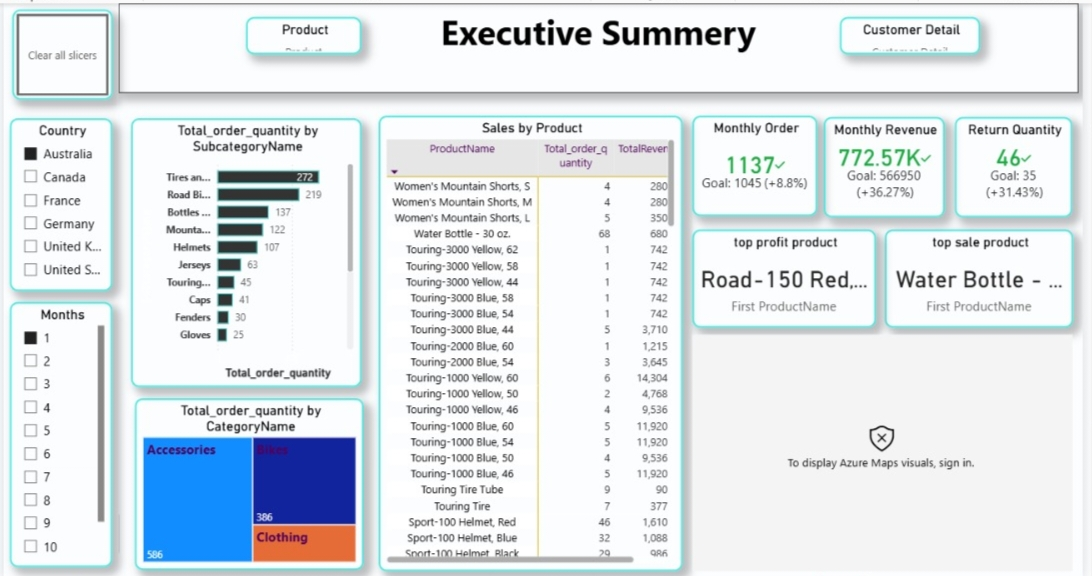

The page's visual inventory and layout, read from the dashboard file:
{"tool":"powerbi","page":{"name":" Executive Summery","canvas":[1350,720],"ordinal":0},"visuals":[{"type":"barChart","fields":{"Category":["Product_Subcategories_Dim.SubcategoryName"],"Y":["Dax-measure (2).Total_sales_quantity"]},"box":[160,144,288,336],"z":0},{"type":"treemap","fields":{"Group":["Product_Categories_Dim.CategoryName"],"Values":["Dax-measure (2).Total_sales_quantity"]},"box":[163.8,494.7,286.3,214.7],"z":1000},{"type":"pivotTable","title":"Sales  by Product","fields":{"Rows":["Products_Dim.ProductName"],"Values":["Dax_measure.Total_order_quantity","Dax_measure.TotalRevenue"]},"box":[469.2,140,380.2,569.4],"z":2000},{"type":"kpi","title":"Monthly Order","fields":{"Goal":["Dax_measure.Privious month order"],"Indicator":["Dax_measure.Total_sales_quantity"],"TrendLine":["Calendar_Dim.Monthno"]},"box":[860.5,140,155.9,125.7],"z":3000},{"type":"card","title":"top sale product","fields":{"Values":["Min(Products_Dim.ProductName)"]},"box":[1102.3,283.1,235.4,122.5],"z":4000},{"type":"card","title":"top profit product","fields":{"Values":["Min(Products_Dim.ProductName)"]},"box":[860.5,283.1,229,122.5],"z":5000},{"type":"kpi","title":" Monthly Revenue","fields":{"TrendLine":["Calendar_Dim.Monthno"],"Indicator":["Dax_measure.TotalRevenue"],"Goal":["Dax_measure.Previous month revenue"]},"box":[1025.9,141.6,151.1,125.7],"z":6000},{"type":"kpi","title":"Return Quantity","fields":{"Indicator":["Sum(Returns_Fact.ReturnQuantity)"],"TrendLine":["Calendar_Dim.Monthno"],"Goal":["Dax_measure.Previous month_return"]},"box":[1189.8,141.6,146.3,125.7],"z":7000},{"type":"textbox","box":[144,0,1200,112],"z":8000},{"type":"azureMap","title":"order by country","fields":{"Category":["Territories_Dim.Country"]},"box":[860.5,413.6,475.6,295.9],"z":9000},{"type":"actionButton","box":[0,0,100,40],"z":10000},{"type":"actionButton","box":[0,640,144,48],"z":11000},{"type":"shape","box":[0,0,143.8,720.5],"z":12000},{"type":"slicer","title":"Country","fields":{"Values":["Territories_Dim.Country"]},"box":[7.8,143.8,128.2,215.7],"z":13000},{"type":"slicer","title":"Months","fields":{"Values":["Calendar_Dim.Monthno"]},"box":[7.8,373.6,128.2,331.4],"z":14000},{"type":"actionButton","box":[10.9,7.8,125,112.5],"z":15000},{"type":"actionButton","title":"Customer Detail","box":[1045.6,17.2,175.1,46.9],"z":16000},{"type":"actionButton","title":"Product","box":[303.2,17.2,143.8,46.9],"z":17000}]}

Visuals, with their boxes in screenshot pixels (x1, y1, x2, y2), scaled from the page's 1350x720 canvas onto the 1092x576 screenshot:
barChart - Product_Subcategories_Dim.SubcategoryName x Dax-measure (2).Total_sales_quantity: (129, 115, 362, 384)
treemap - Product_Categories_Dim.CategoryName x Dax-measure (2).Total_sales_quantity: (132, 396, 364, 568)
"Sales  by Product" pivotTable: (380, 112, 687, 568)
"Monthly Order" kpi: (696, 112, 822, 213)
"top sale product" card: (892, 226, 1082, 324)
"top profit product" card: (696, 226, 881, 324)
" Monthly Revenue" kpi: (830, 113, 952, 214)
"Return Quantity" kpi: (962, 113, 1081, 214)
textbox: (116, 0, 1087, 90)
"order by country" azureMap: (696, 331, 1081, 568)
actionButton: (0, 0, 81, 32)
actionButton: (0, 512, 116, 550)
shape: (0, 0, 116, 575)
"Country" slicer: (6, 115, 110, 288)
"Months" slicer: (6, 299, 110, 564)
actionButton: (9, 6, 110, 96)
"Customer Detail" actionButton: (846, 14, 987, 51)
"Product" actionButton: (245, 14, 362, 51)
